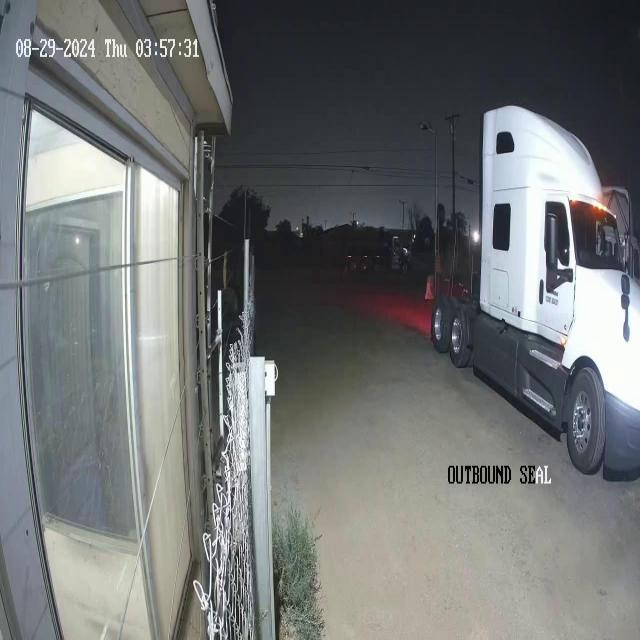TRUCK_IN: (430, 102, 639, 481)
